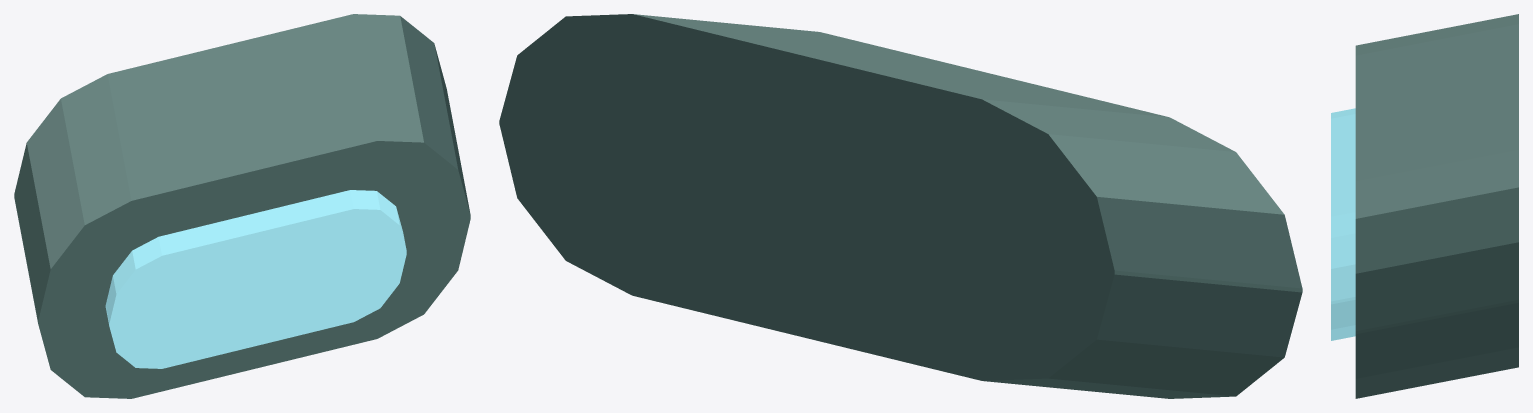
File: Signal_Lamp.gltf
The picture shows the model from 3 angles, left to right: view 1: azimuth 30°, elevation 25°; view 2: azimuth 150°, elevation 25°; view 3: azimuth 270°, elevation 25°; orthographic projection. The views are drawn at different scales.
Visible parts, largest first — view 1: Signal_Lamp_baked; view 2: Signal_Lamp_baked; view 3: Signal_Lamp_baked.
Part boxes in pixels (box(x1,y1,x2,y2)): Signal_Lamp_baked: box(14, 14, 470, 398); Signal_Lamp_baked: box(499, 14, 1302, 398); Signal_Lamp_baked: box(1331, 14, 1518, 398).
Size of the model in its own units: 0.36 by 0.18 by 0.115.
